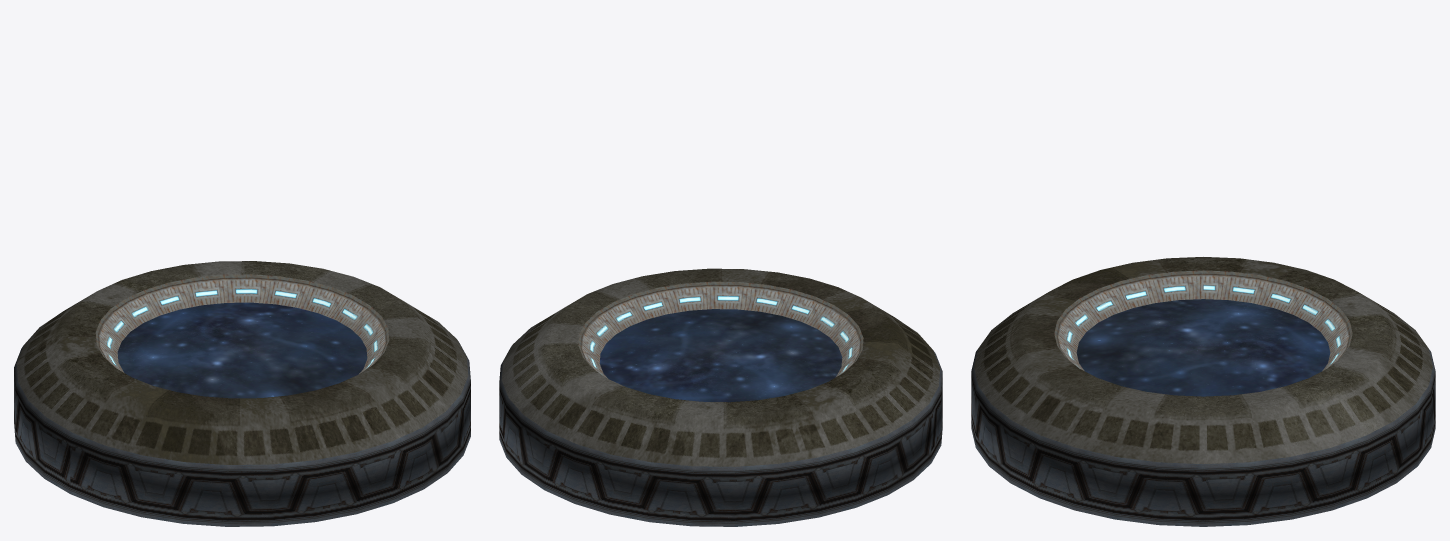
File: hologram base.glb
3 views of the same model, side by side, from view 1: azimuth 30°, elevation 25°; view 2: azimuth 150°, elevation 25°; view 3: azimuth 270°, elevation 25° (orthographic). The views are drawn at different scales.
Parts seen in each view (by area): view 1: Cylinder.042, Cylinder.043; view 2: Cylinder.042, Cylinder.043; view 3: Cylinder.042, Cylinder.043.
Part boxes in pixels (left/top/right/bottom): Cylinder.042: left=14, top=261, right=470, bottom=526; Cylinder.043: left=117, top=302, right=367, bottom=398; Cylinder.042: left=499, top=268, right=942, bottom=526; Cylinder.043: left=599, top=309, right=842, bottom=402; Cylinder.042: left=971, top=257, right=1435, bottom=526; Cylinder.043: left=1076, top=299, right=1330, bottom=396.
Bounding box in the file's own units: 10.53 × 9.5 × 10.53.
6 materials, 6 textured.
